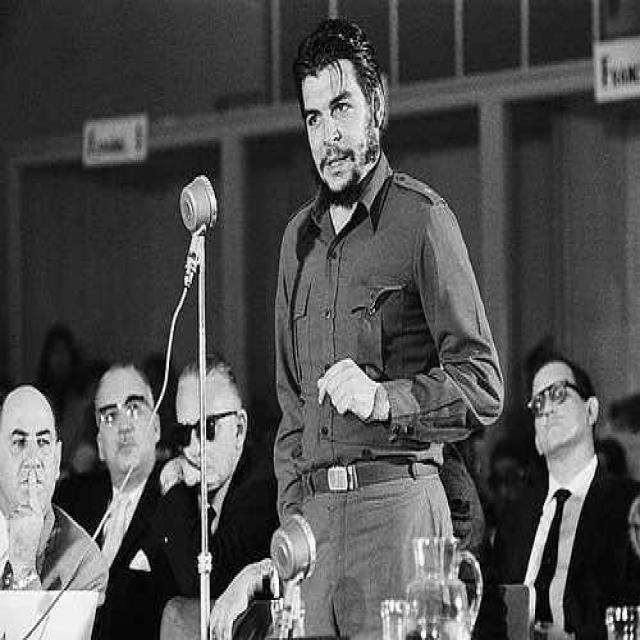microphone: (179, 174, 218, 235)
